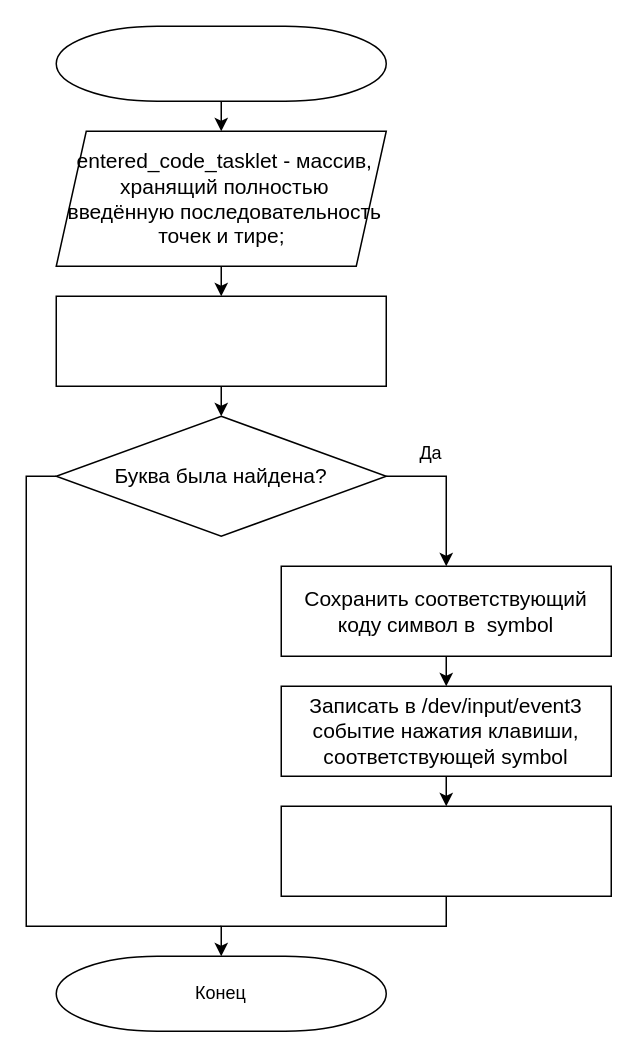
This 638x1058 diagram has some shape labels left out. Each missing label, with the centre of its shape:
"Записать в /dev/input/event3 событие отпускания клавиши, соответствующей symbol" belongs at pixel 445 850.
"Начало" belongs at pixel 220 63.
"По содержимому entered_code_tasklet поиск буквы в словаре кодов Морзе" belongs at pixel 220 340.
